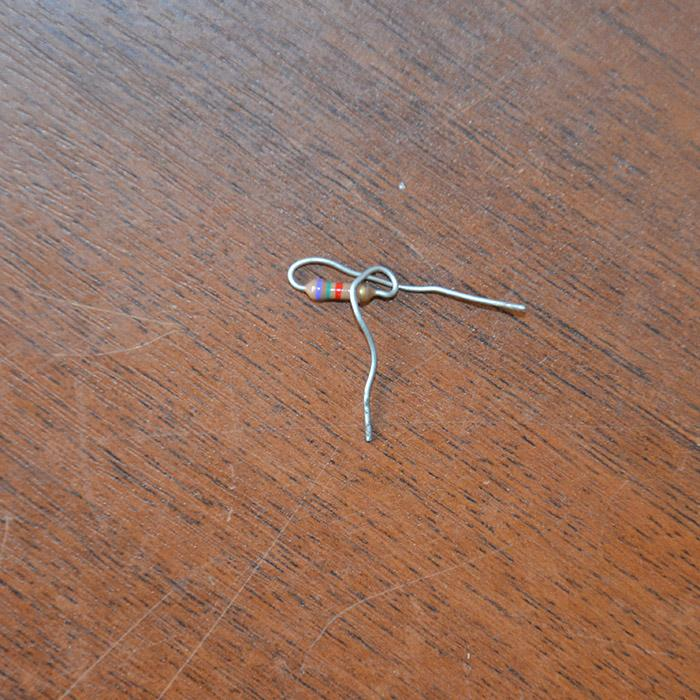resistor: (304, 279, 371, 304)
